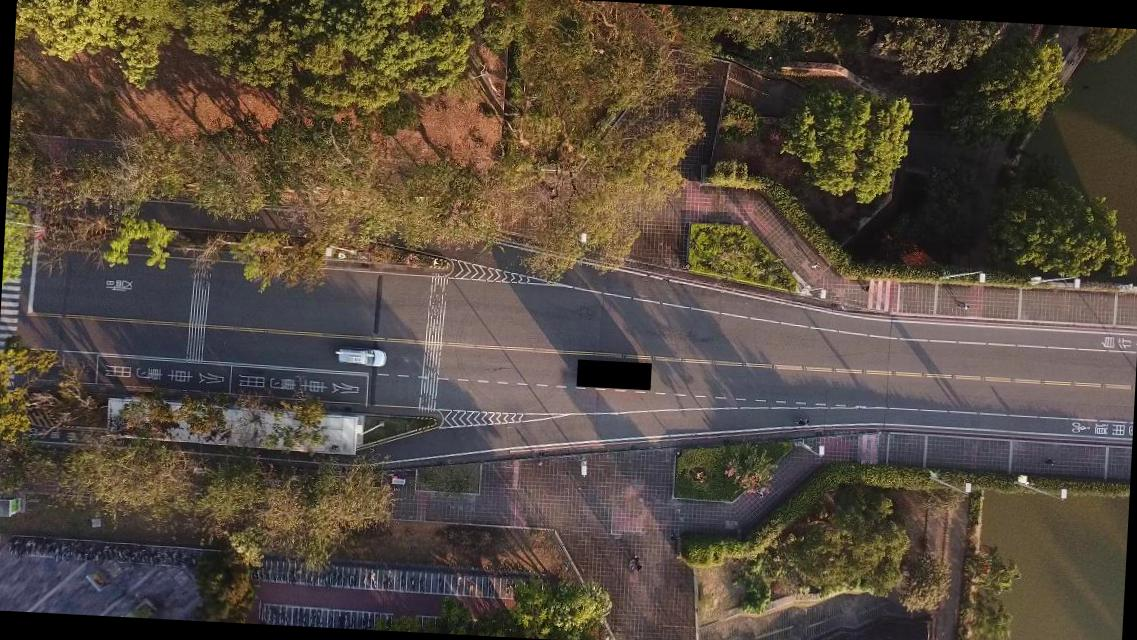vehicle: (333, 344, 388, 368)
